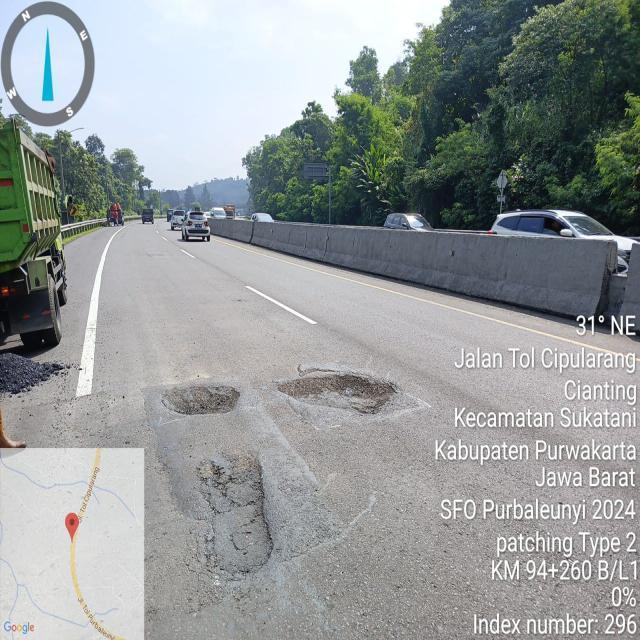Buraco: (191, 445, 277, 583), (273, 362, 406, 417), (158, 383, 244, 418)
